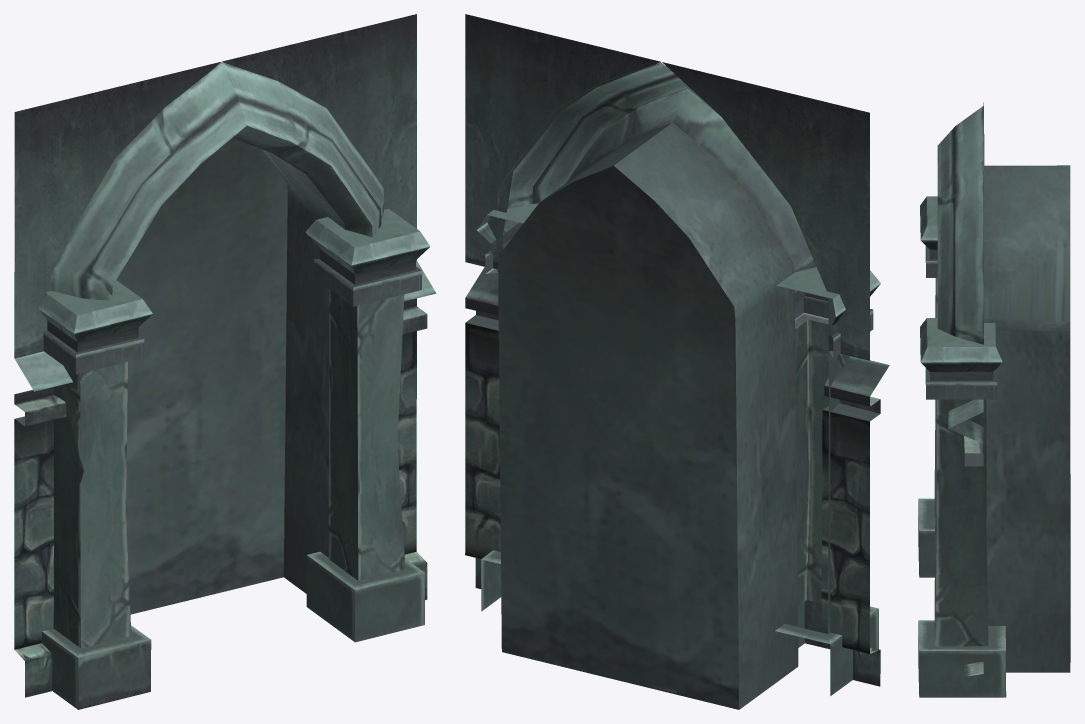
File: crypt_wall_straight_14.fbx
3 views of the same model, side by side, from view 1: azimuth 30°, elevation 25°; view 2: azimuth 150°, elevation 25°; view 3: azimuth 270°, elevation 25° (orthographic). The views are drawn at different scales.
Parts seen in each view (by area): view 1: crypt_wall_straight_14-0; view 2: crypt_wall_straight_14-0; view 3: crypt_wall_straight_14-0.
Part boxes in pixels (x1,y1,x2,y2): crypt_wall_straight_14-0: (14, 14, 436, 709); crypt_wall_straight_14-0: (465, 14, 889, 709); crypt_wall_straight_14-0: (918, 102, 1070, 697).
Bounding box in the file's own units: 4 × 5.49 × 1.46.
